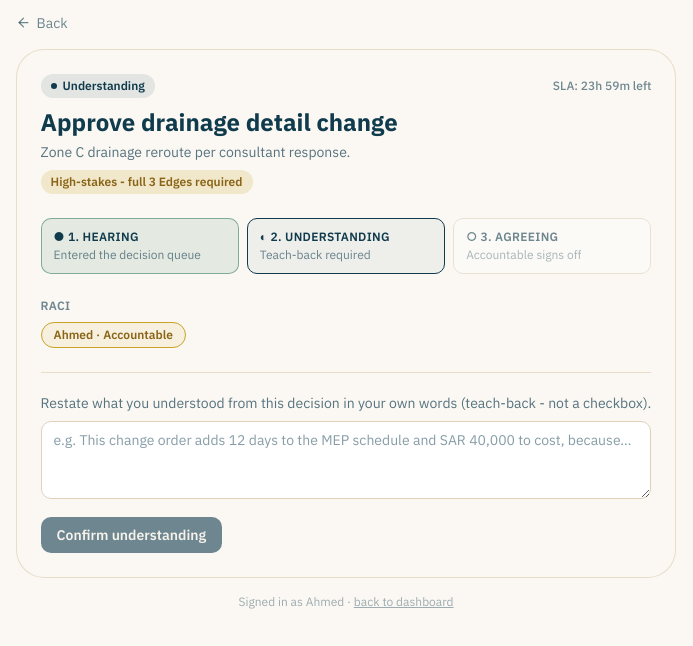
Scenario: DecisionDetailPage - teach-back understanding gate › rejects a generic phrase and keeps the confirm button disabled
Type "ok" into the text box with placeholder "MEP schedule" at [346, 460], box [41,420,651,498]
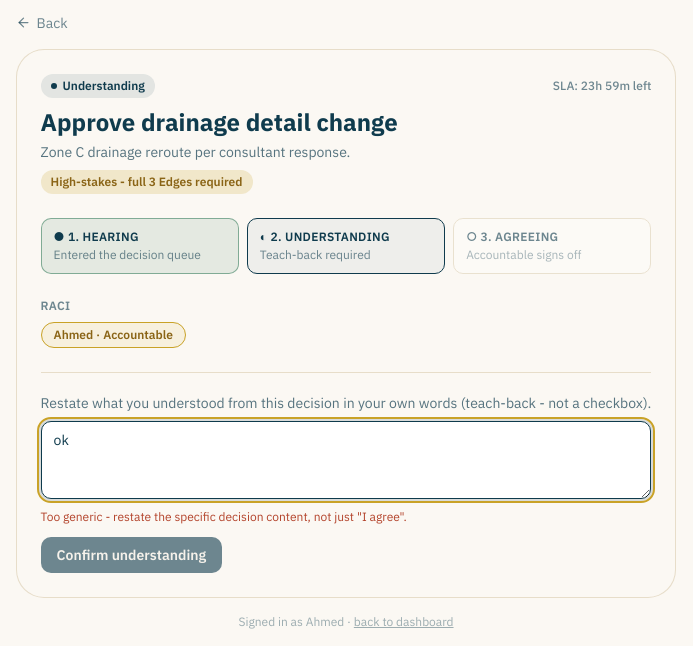
Expected: the button "Confirm understanding" is disabled, [41,536,222,572]
Expected: the text "Too generic - restate the specific decision content, not just \"I agree\"." is shown, [41,508,407,524]
